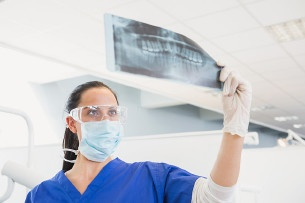Mask: (77, 104, 127, 152)
